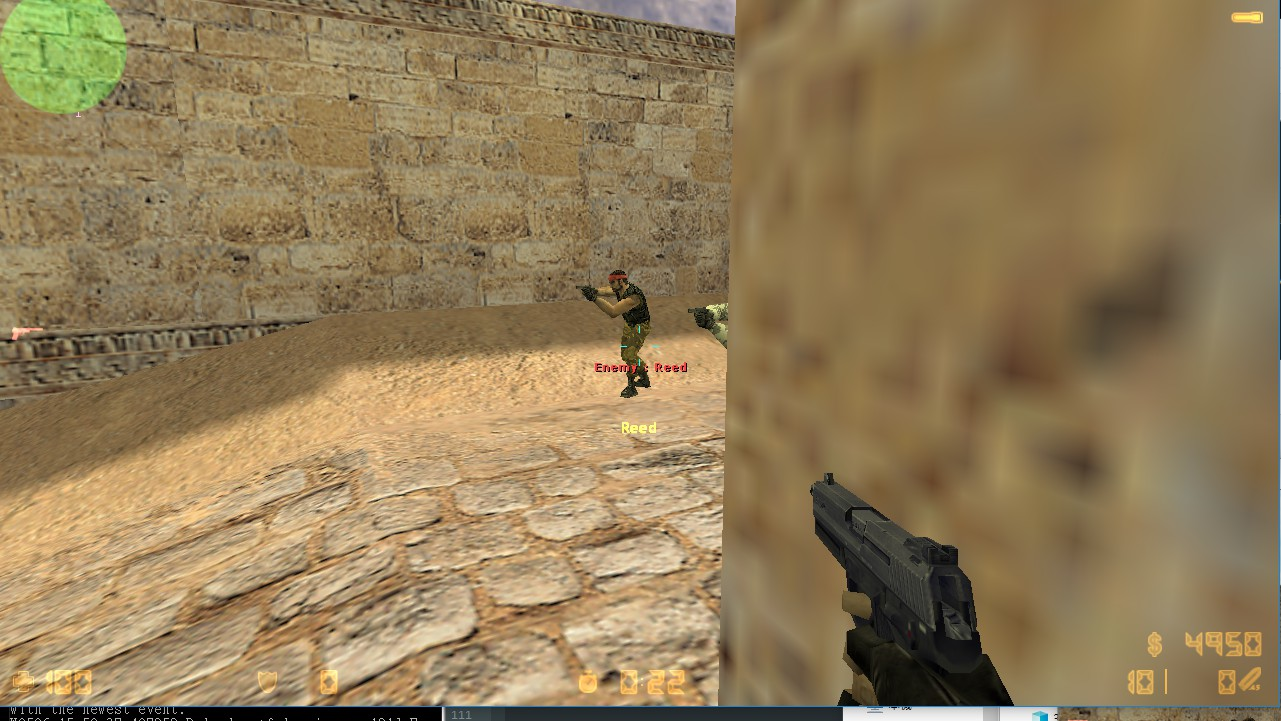person: (597, 267, 660, 404)
